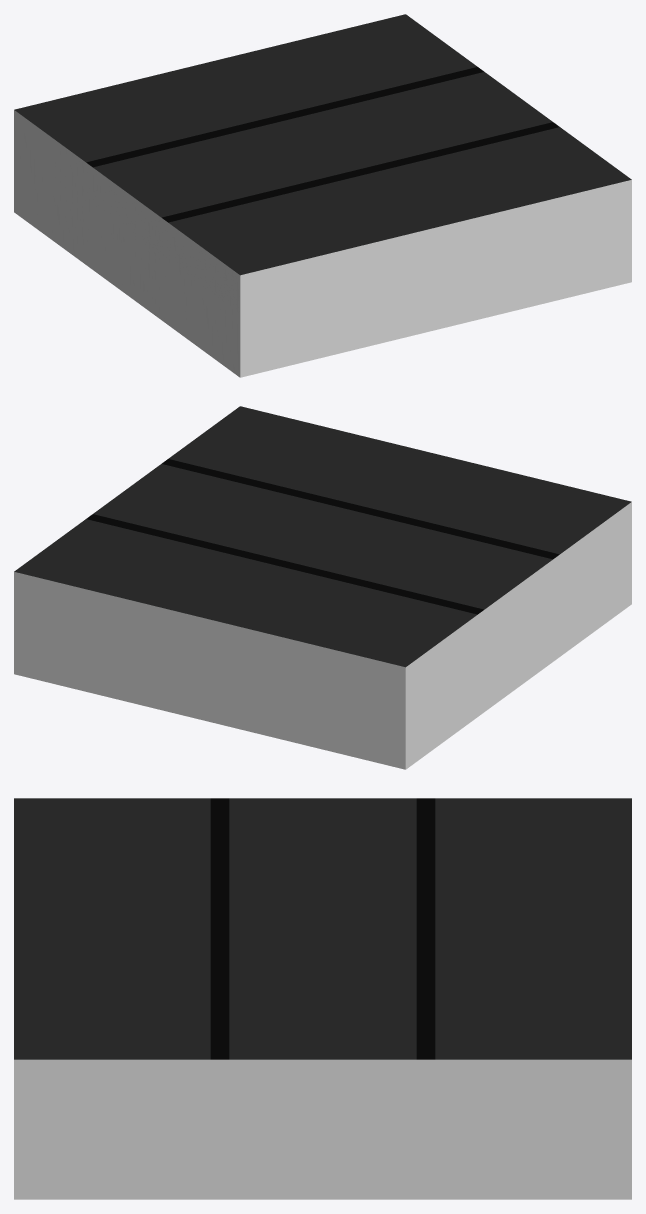
File: Prop_GroundBase_04.fbx
The picture shows the model from 3 angles, top to bottom: view 1: azimuth 30°, elevation 25°; view 2: azimuth 150°, elevation 25°; view 3: azimuth 270°, elevation 25°; orthographic projection. The views are drawn at different scales.
Parts seen in each view (by area): view 1: Prop_GroundBase_04; view 2: Prop_GroundBase_04; view 3: Prop_GroundBase_04.
Part boxes in pixels (x1,y1,x2,y2): Prop_GroundBase_04: (14, 14, 631, 377); Prop_GroundBase_04: (14, 406, 631, 769); Prop_GroundBase_04: (14, 798, 631, 1199).
Size of the model in its own units: 200 by 50 by 200.
